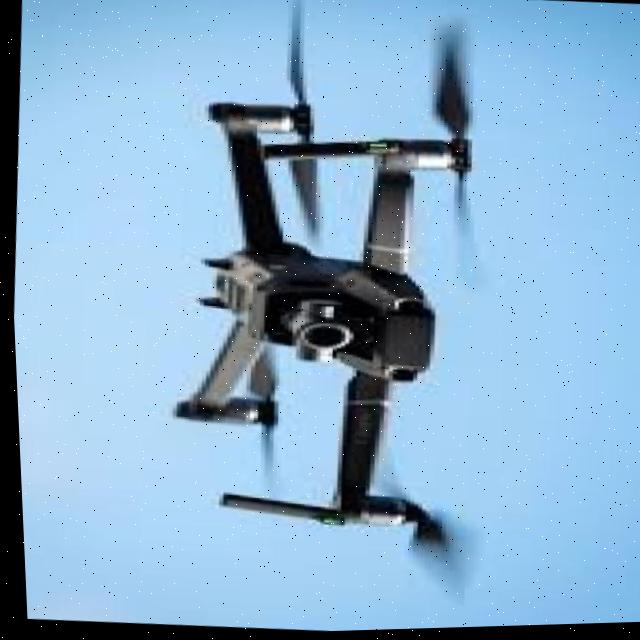drones: (116, 0, 539, 616)
